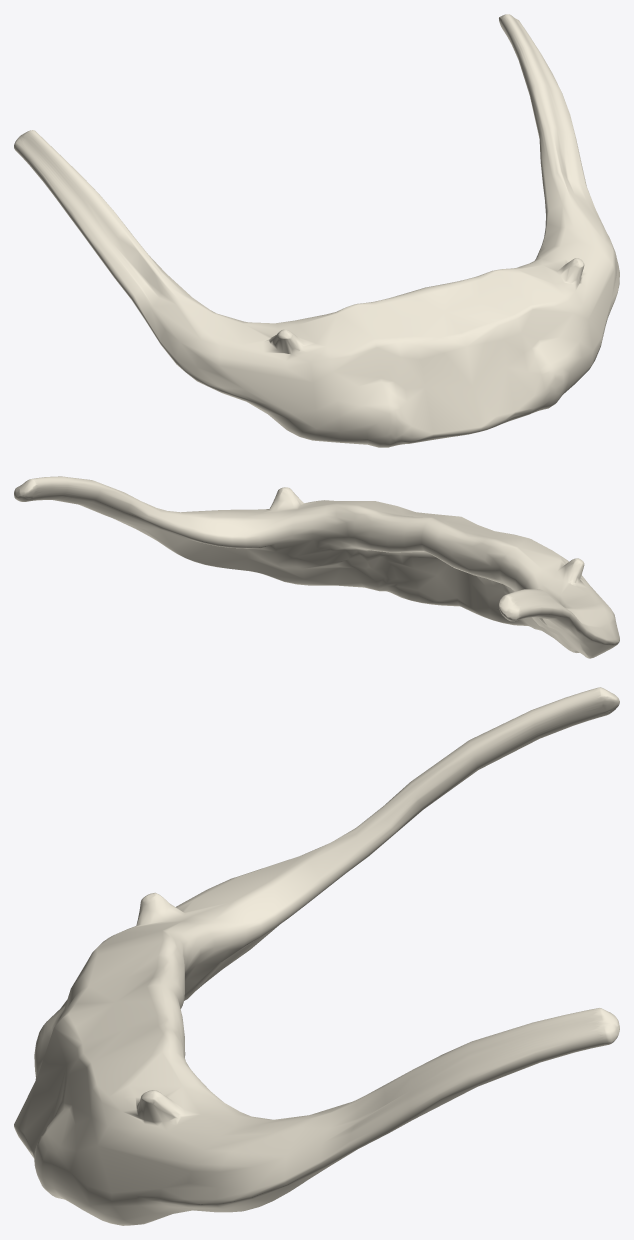
File: hyoid.glb
3 views of the same model, one above another, from view 1: azimuth 30°, elevation 25°; view 2: azimuth 150°, elevation 25°; view 3: azimuth 270°, elevation 25° (orthographic). The views are drawn at different scales.
Visible parts, largest first — view 1: bone.hyoid; view 2: bone.hyoid; view 3: bone.hyoid.
Part boxes in pixels (box(x1,y1,x2,y2)): bone.hyoid: box(14, 14, 619, 447); bone.hyoid: box(14, 476, 619, 658); bone.hyoid: box(14, 687, 619, 1225).
Bounding box in the file's own units: 0.0511 × 0.0207 × 0.0383.
